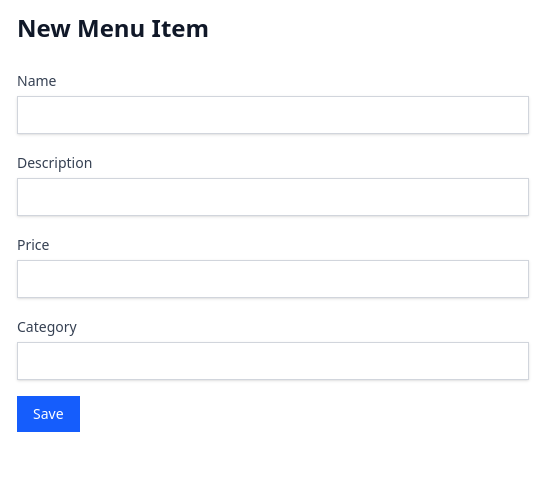
Scenario: MenuItemForm › shows error on API failure
Type "Burger" into the field labelled "Name".
click(273, 115); type("Burger")  # box [17,96,529,134]
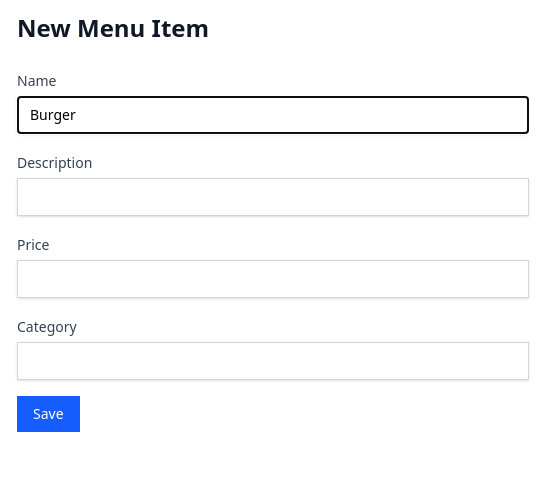
Type "Tasty" into the field labelled "Description".
click(273, 197); type("Tasty")  # box [17,178,529,216]
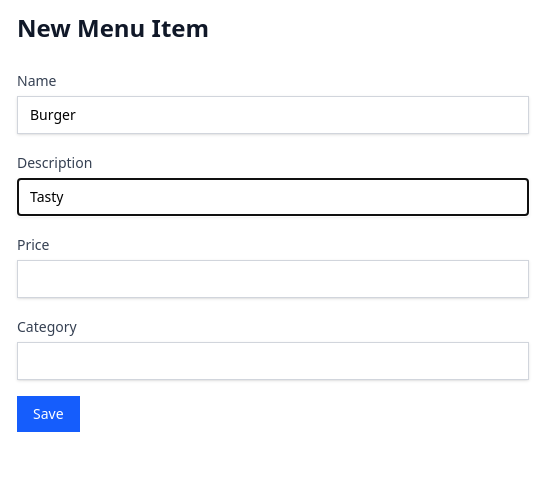
Type "9.99" into the number field labelled "Price".
click(273, 279); type("9.99")  # box [17,260,529,298]
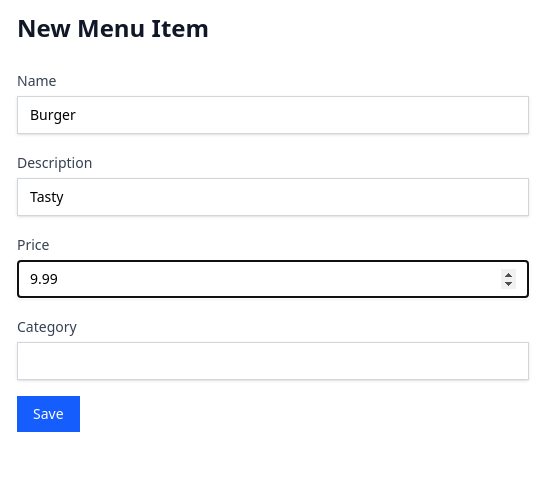
Type "main" into the field labelled "Category".
click(273, 361); type("main")  # box [17,342,529,380]
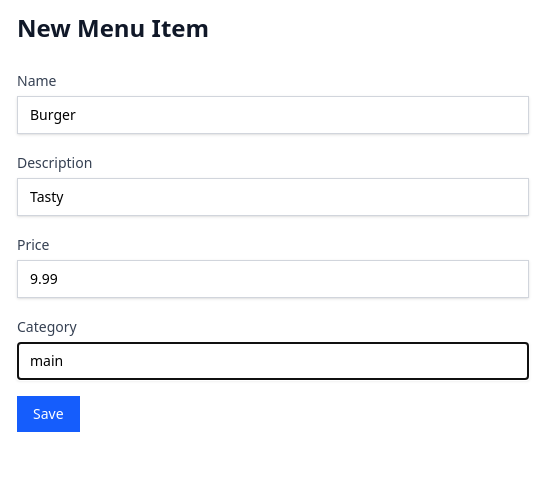
Click the button "Save".
click(48, 414)  # box [17,396,80,432]
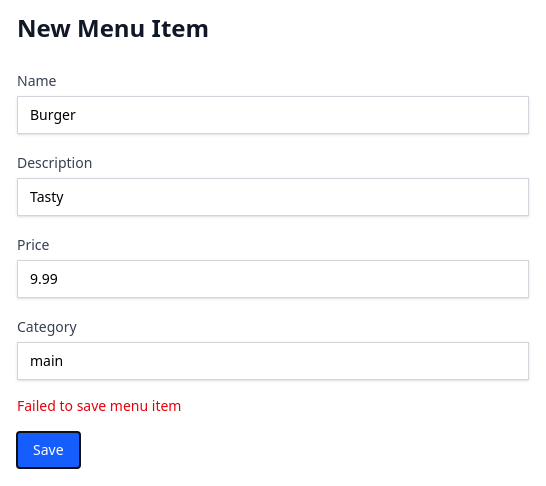
Result: the text "Failed to save menu item" is shown at [17,396,182,415]
